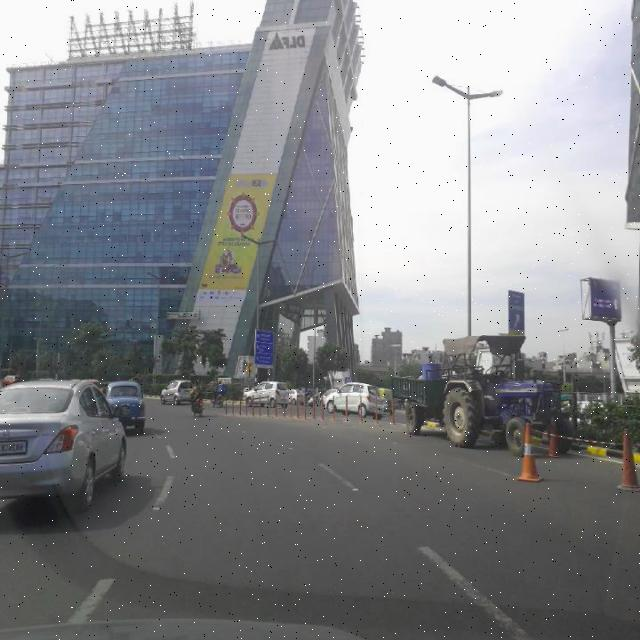D44: (422, 541, 518, 634), (324, 462, 364, 494)
